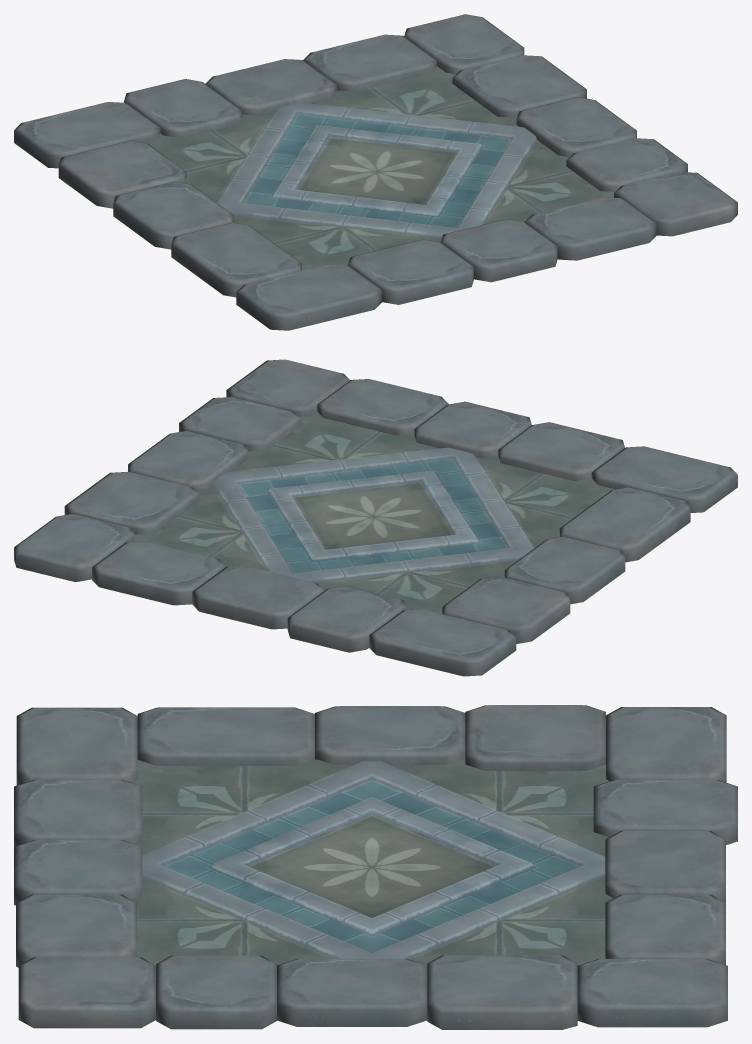
File: stone_step.fbx
The picture shows the model from 3 angles, top to bottom: view 1: azimuth 30°, elevation 25°; view 2: azimuth 150°, elevation 25°; view 3: azimuth 270°, elevation 25°; orthographic projection. The views are drawn at different scales.
Visible parts, largest first — view 1: stone_step; view 2: stone_step; view 3: stone_step.
Part boxes in pixels (<box>): stone_step: <box>14,14,737,330</box>; stone_step: <box>14,359,737,676</box>; stone_step: <box>14,705,737,1029</box>.
Size of the model in its own units: 254 by 7.79 by 253.
